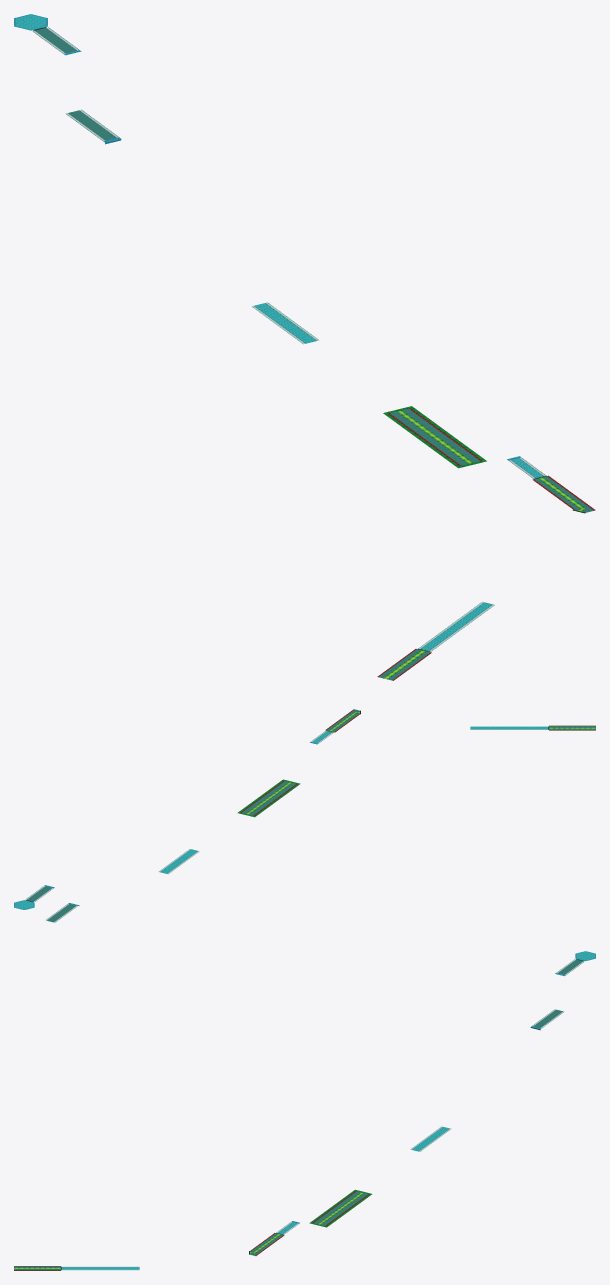
The model's file is S03_ONS_05.OBJ.
3 views of the same model, one above another, from view 1: azimuth 30°, elevation 25°; view 2: azimuth 150°, elevation 25°; view 3: azimuth 330°, elevation 25° (orthographic). The views are drawn at different scales.
Visible parts, largest first — view 1: s03_ons_05_2, s03_ons_05_3, s03_ons_05_6, s03_ons_05_1; view 2: s03_ons_05_2, s03_ons_05_3, s03_ons_05_6, s03_ons_05_1, s03_ons_05_0; view 3: s03_ons_05_2, s03_ons_05_6, s03_ons_05_3.
Boxes of the visible parts, x1,y1,x2,y2 form: s03_ons_05_2: (35, 28, 593, 680); s03_ons_05_3: (15, 15, 542, 650); s03_ons_05_6: (32, 27, 545, 651); s03_ons_05_1: (383, 410, 585, 679); s03_ons_05_2: (27, 709, 595, 922); s03_ons_05_3: (15, 727, 548, 909); s03_ons_05_6: (25, 726, 548, 922); s03_ons_05_1: (246, 711, 595, 814); s03_ons_05_0: (241, 709, 595, 815); s03_ons_05_2: (14, 959, 582, 1270); s03_ons_05_6: (62, 959, 584, 1270); s03_ons_05_3: (61, 951, 594, 1269).
Bounding box in the file's own units: 1920 × 700 × 6986.
